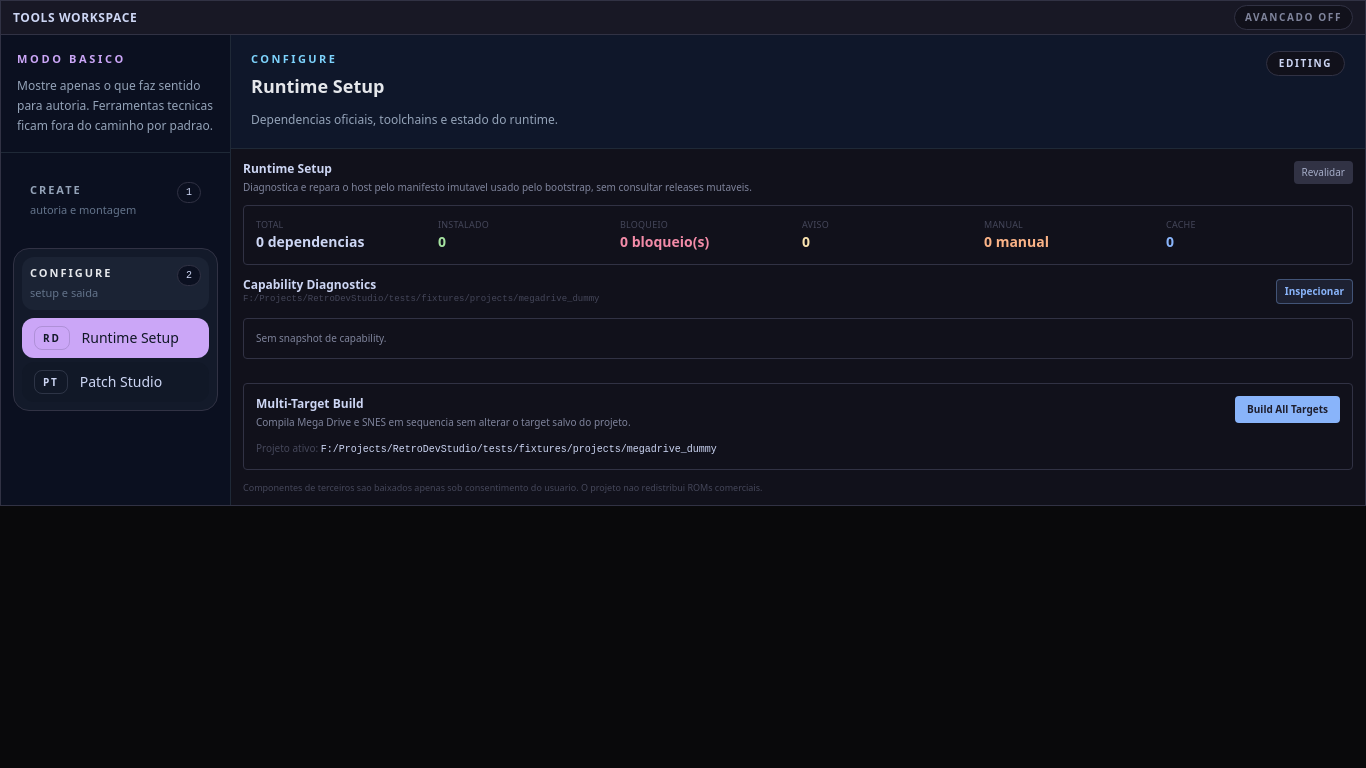
Test: ToolsPanel Asset Browser › exposes Cycle Report as Experimental and blocks empty paths
Click the button "Avancado OFF": (1294,18) [1234, 5, 1353, 30]
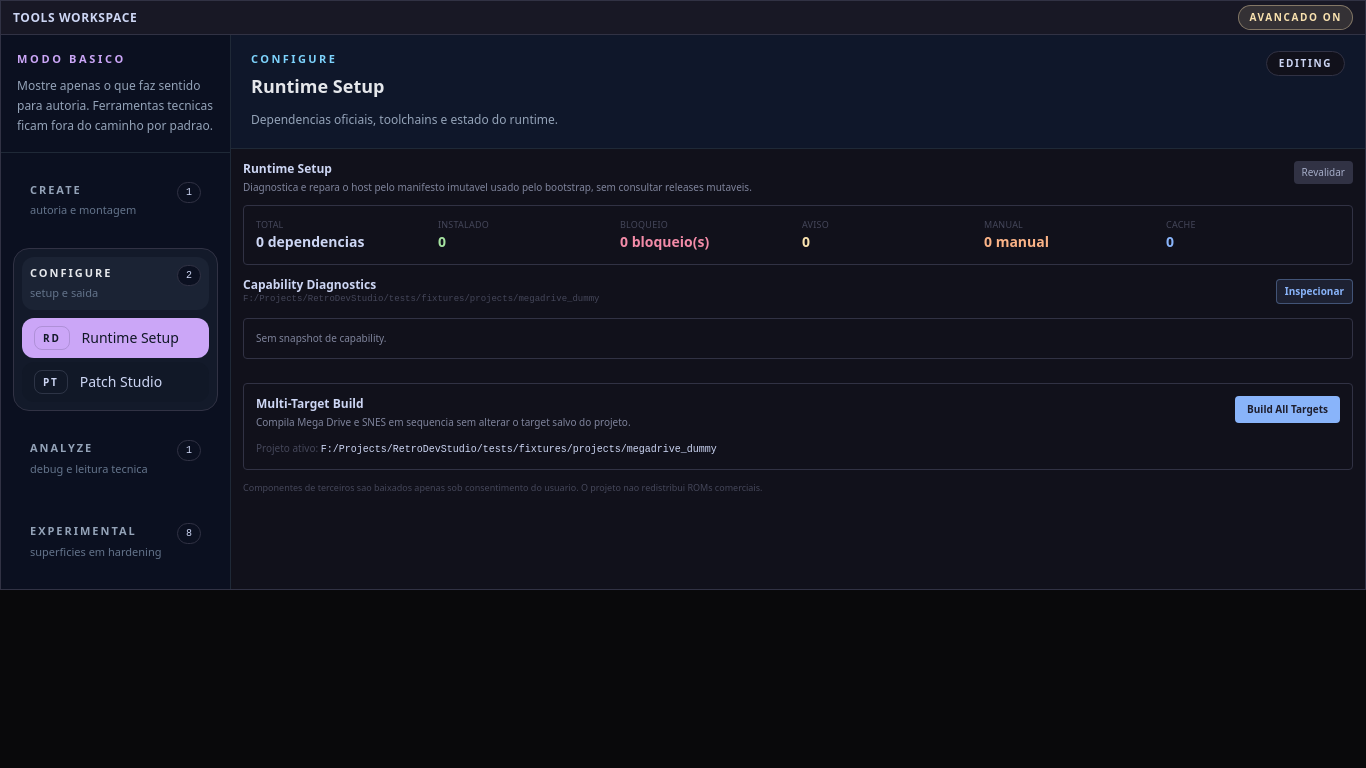
Click the button "Experimental superficies em hardening 8": (116,542) [22, 515, 209, 568]
(page scrolled)
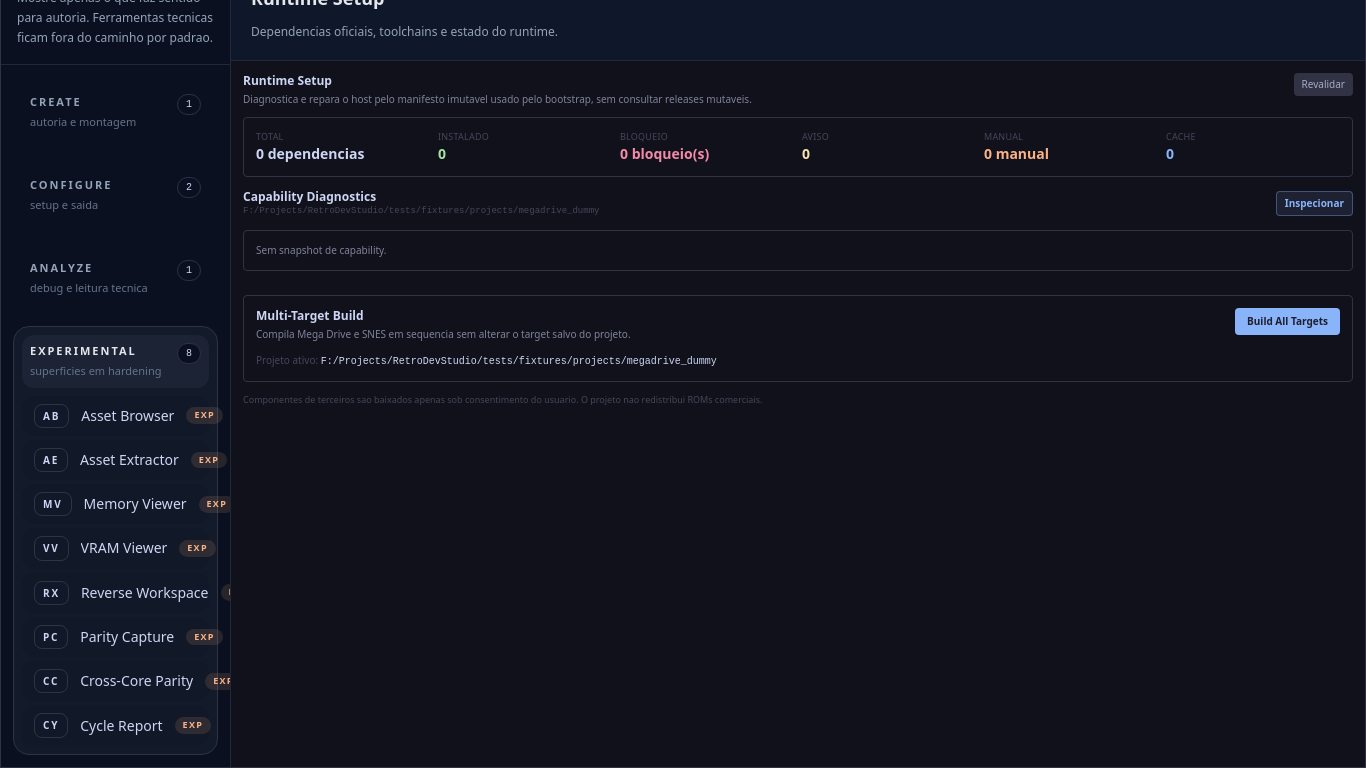
Click the button "CY Cycle Report Exp": (116,726) [22, 706, 209, 746]
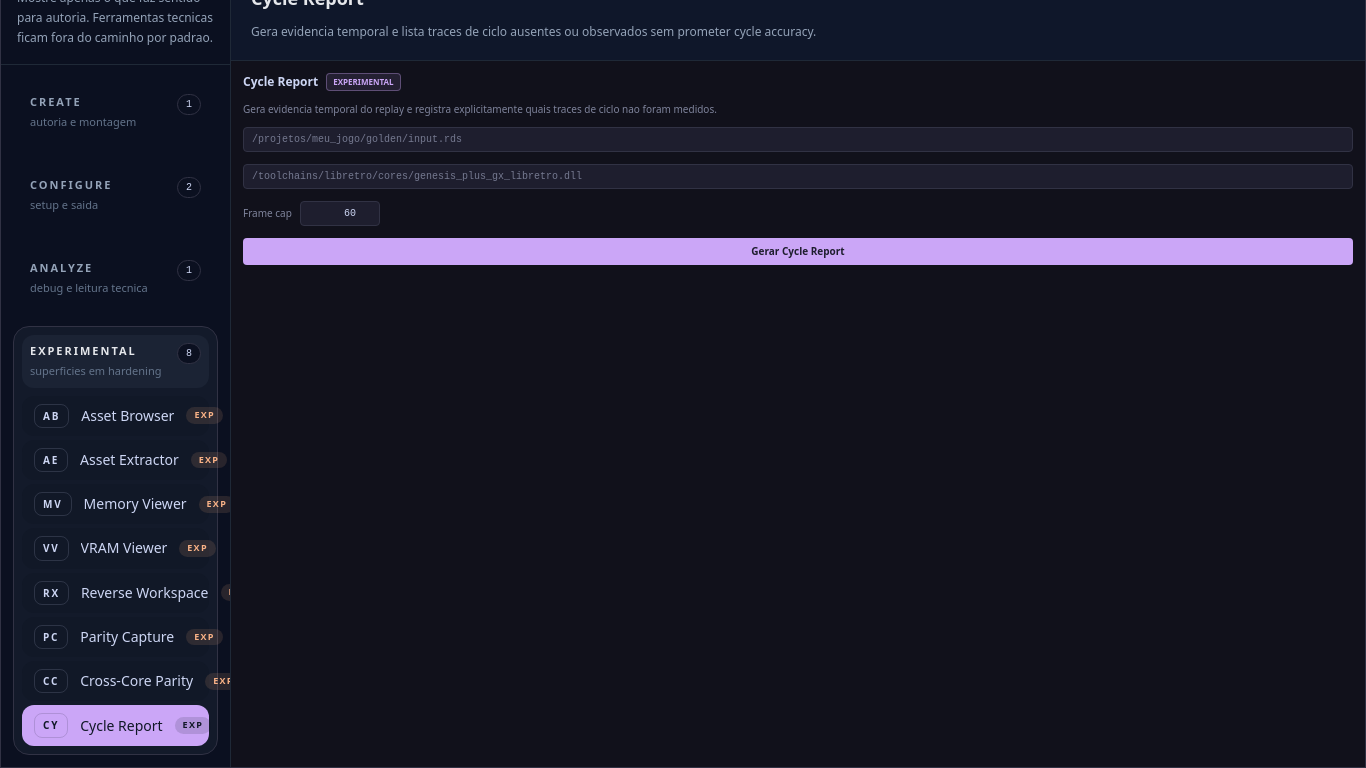
Result: the element with test id "cycle-report-section" is shown at [231, 60, 1365, 277]
Result: the element with test id "cycle-report-section" shows "Experimental" at [333, 76, 394, 86]
Click the button "Gerar Cycle Report": (798,252) [243, 238, 1353, 265]
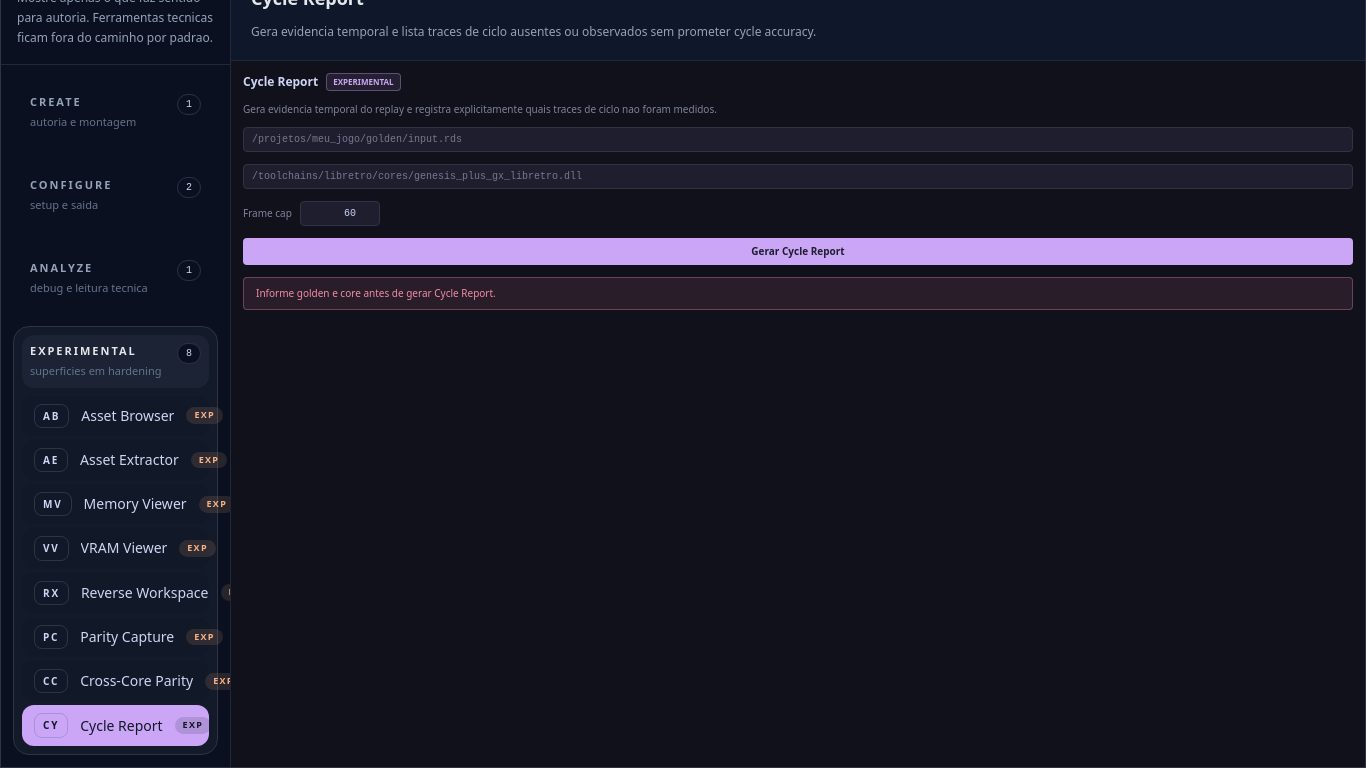
Result: the text "Informe golden e core" is shown at [256, 286, 496, 300]
